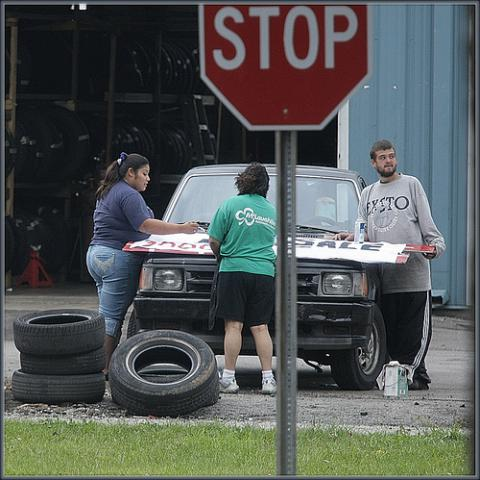car: (117, 166, 390, 393)
